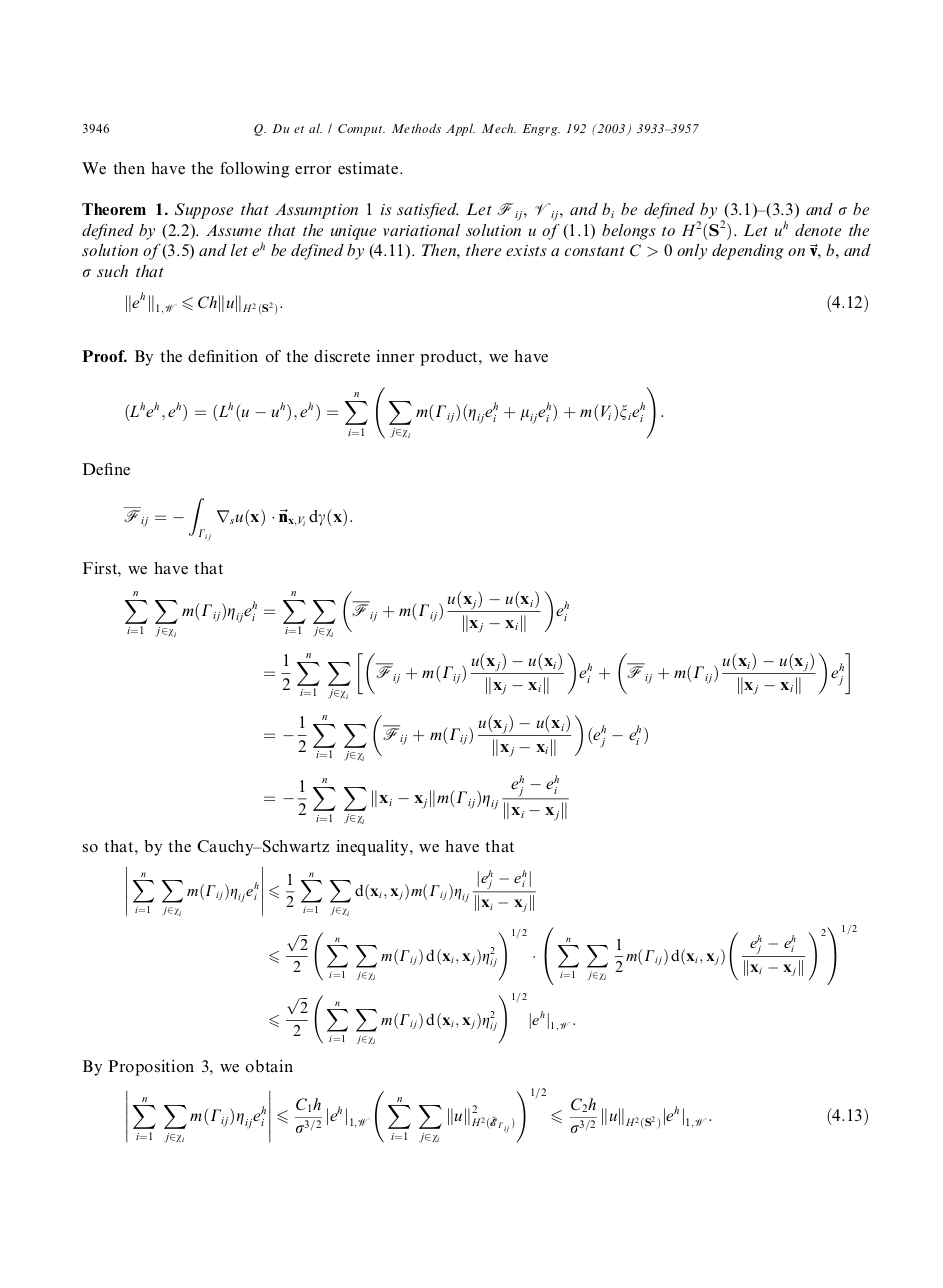formula: (126, 1087, 867, 1143), (269, 923, 856, 985), (125, 386, 663, 439), (264, 651, 849, 699), (126, 865, 535, 916), (125, 590, 568, 637), (264, 714, 647, 761), (126, 291, 867, 315), (269, 991, 574, 1044), (264, 774, 568, 824), (123, 497, 352, 541)
